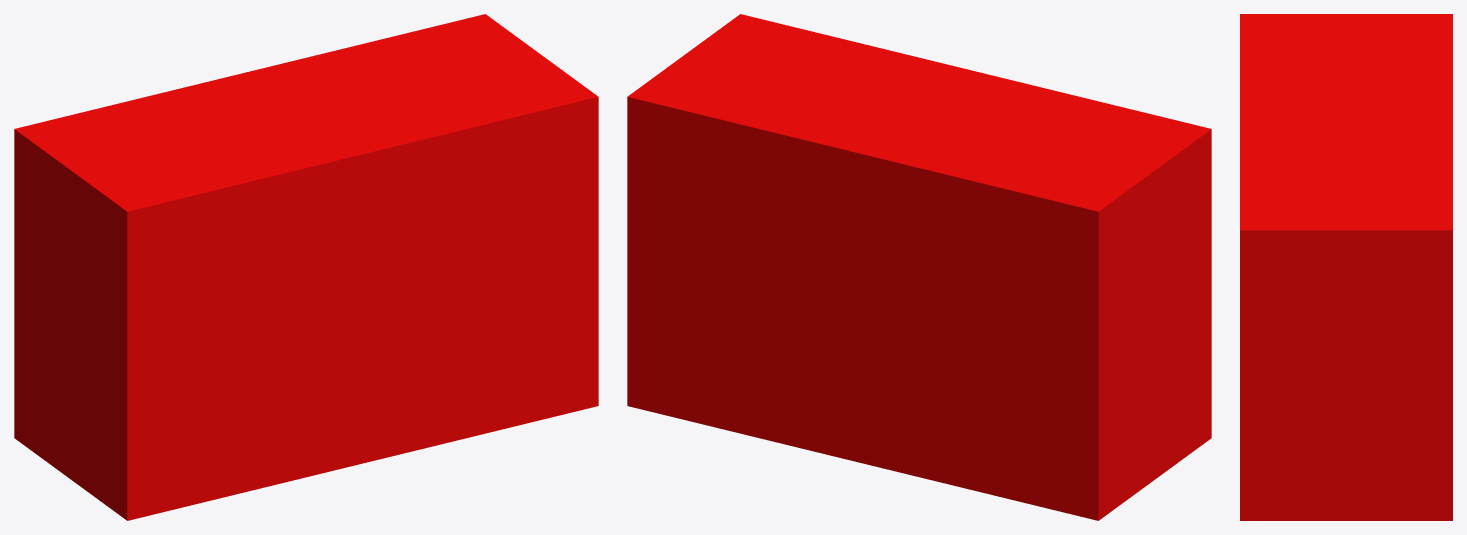
File: ring_distal_lvs_col.dae
3 renders of one model, left to right at view 1: azimuth 30°, elevation 25°; view 2: azimuth 150°, elevation 25°; view 3: azimuth 270°, elevation 25°, orthographic. The views are drawn at different scales.
Visible parts, largest first — view 1: node0; view 2: node0; view 3: node0.
Part boxes in pixels (x1,y1,x2,y2): node0: (14,14,598,520); node0: (627,14,1211,520); node0: (1240,14,1452,520).
Bounding box in the file's own units: 0.0188 × 0.0118 × 0.00782.
